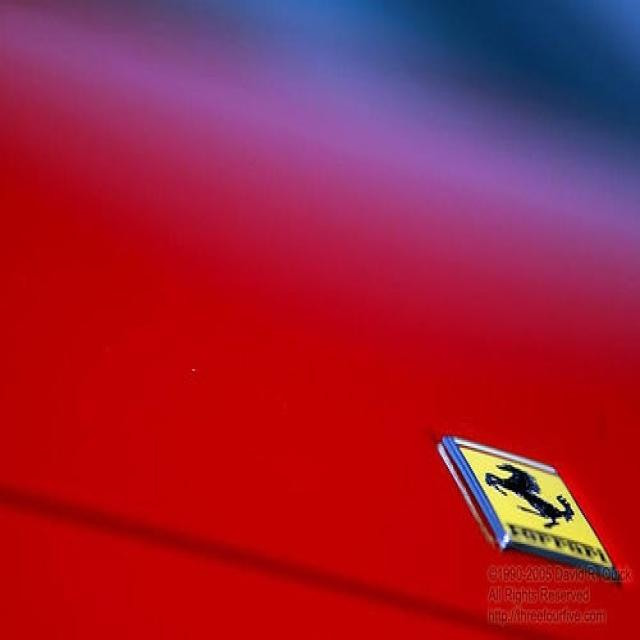ferrari: (460, 443, 613, 566)
